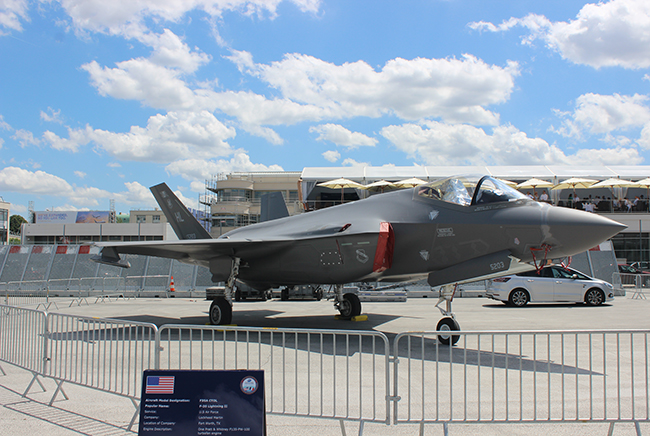F-35 Lightning: (76, 167, 630, 351)
